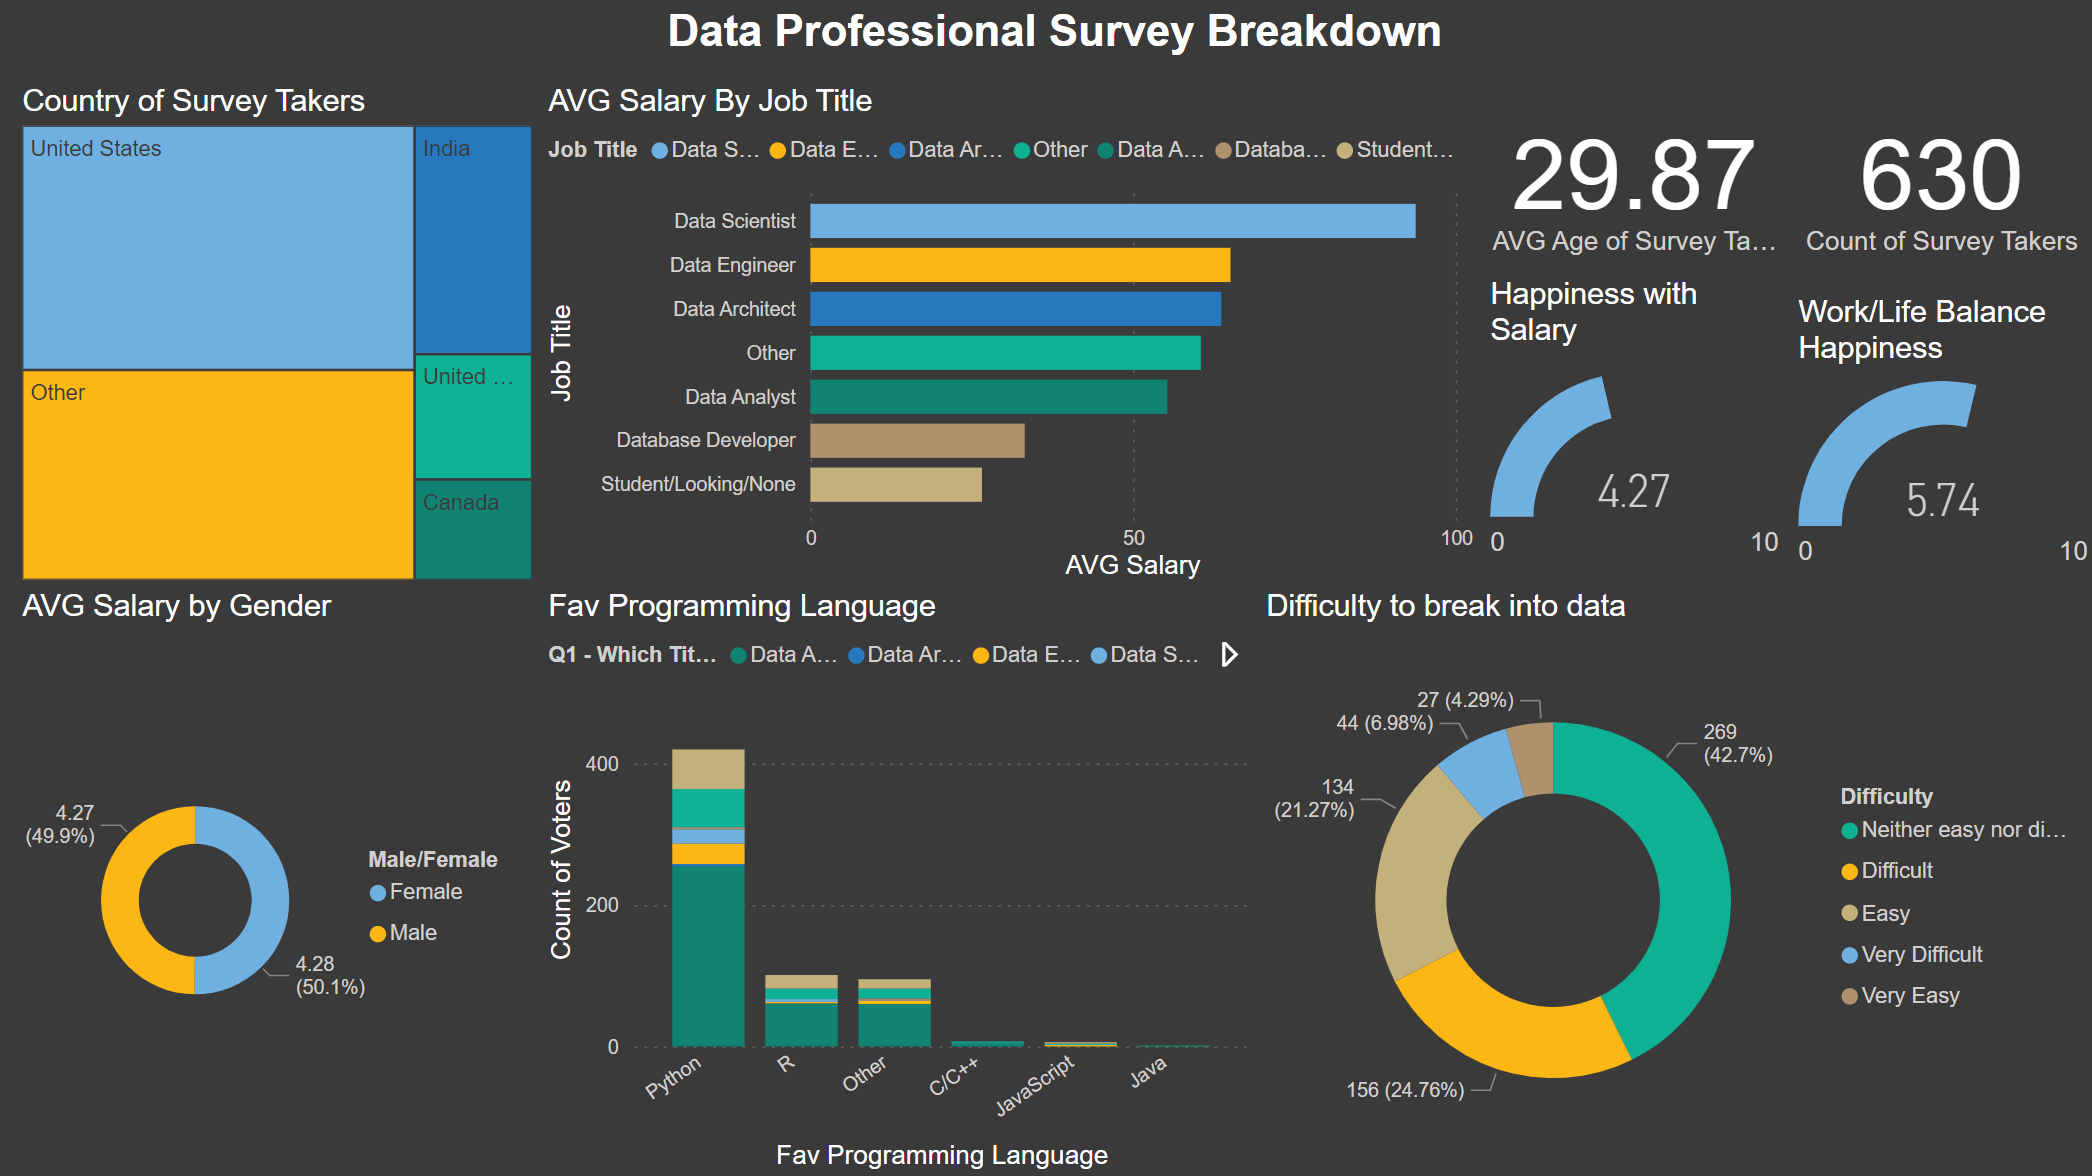

What the dashboard file says about the page in this screenshot:
{"tool":"powerbi","page":{"name":"Page 1","canvas":[1280,720],"ordinal":0},"visuals":[{"type":"textbox","box":[9.7,0,1270.3,52.2],"z":0},{"type":"card","fields":{"Values":["Count(Data Professional Survey.Unique ID)"]},"box":[1092,52.2,188,117.1],"z":1},{"type":"card","fields":{"Values":["Avg(Data Professional Survey.Q10 - Current Age)"]},"box":[905.5,52.2,186.5,117.1],"z":2},{"type":"barChart","title":"AVG Salary By Job Title","fields":{"Category":["Data Professional Survey.Q1 - Which Title Best Fits your Current Role?.1"],"Y":["Avg(Data Professional Survey.AVG Salary)"],"Series":["Data Professional Survey.Q1 - Which Title Best Fits your Current Role?.1"]},"box":[330.9,51.9,574.8,308.2],"z":3},{"type":"columnChart","title":"Fav Programming Language","fields":{"Category":["Data Professional Survey.Q5 - Favorite Programming Language.1"],"Y":["CountNonNull(Data Professional Survey.Unique ID)"],"Series":["Data Professional Survey.Q1 - Which Title Best Fits your Current Role?.1"]},"box":[330.9,360.1,437.9,360.1],"z":4},{"type":"treemap","title":"Country of Survey Takers","fields":{"Group":["Data Professional Survey.Q11 - Which Country do you live in?.1"],"Values":["CountNonNull(Data Professional Survey.Q11 - Which Country do you live in?.1)"]},"box":[9.7,51.9,321.1,308.2],"z":5},{"type":"gauge","title":"Work/Life Balance Happiness ","fields":{"Y":["Avg(Data Professional Survey.Q6 - How Happy are you in your Current Position with the following? (Work/Life Balance))"],"MaxValue":["Max(Data Professional Survey.Q6 - How Happy are you in your Current Position with the following? (Work/Life Balance))"],"MinValue":["Min(Data Professional Survey.Q6 - How Happy are you in your Current Position with the following? (Work/Life Balance))1"]},"box":[1093.2,180.4,186.8,179.7],"z":6},{"type":"gauge","title":"Happiness with Salary","fields":{"Y":["Avg(Data Professional Survey.Q6 - How Happy are you in your Current Position with the following? (Salary))"],"MinValue":["Min(Data Professional Survey.Q6 - How Happy are you in your Current Position with the following? (Salary))1"],"MaxValue":["Max(Data Professional Survey.Q6 - How Happy are you in your Current Position with the following? (Salary))2"]},"box":[905.7,169.3,186.2,190.7],"z":7},{"type":"donutChart","title":"AVG Salary by Gender","fields":{"Category":["Data Professional Survey.Q9 - Male/Female?"],"Y":["Avg(Data Professional Survey.Q6 - How Happy are you in your Current Position with the following? (Salary))"]},"box":[9.7,360.1,321.1,360.1],"z":8},{"type":"donutChart","title":"Difficulty to break into data","fields":{"Category":["Data Professional Survey.Q7 - How difficult was it for you to break into Data?"],"Y":["CountNonNull(Data Professional Survey.Q7 - How difficult was it for you to break into Data?)"]},"box":[768.8,360.1,511.2,360.1],"z":9}]}

Visuals, with their boxes in screenshot pixels (x1, y1, x2, y2), scaled from the page's 1280x720 canvas onto the 2092x1176 screenshot:
textbox: [left=16, top=0, right=2091, bottom=85]
card - Count(Data Professional Survey.Unique ID): [left=1785, top=85, right=2091, bottom=277]
card - Avg(Data Professional Survey.Q10 - Current Age): [left=1480, top=85, right=1785, bottom=277]
"AVG Salary By Job Title" barChart: [left=541, top=85, right=1480, bottom=588]
"Fav Programming Language" columnChart: [left=541, top=588, right=1257, bottom=1175]
"Country of Survey Takers" treemap: [left=16, top=85, right=541, bottom=588]
"Work/Life Balance Happiness " gauge: [left=1787, top=295, right=2091, bottom=588]
"Happiness with Salary" gauge: [left=1480, top=277, right=1785, bottom=588]
"AVG Salary by Gender" donutChart: [left=16, top=588, right=541, bottom=1175]
"Difficulty to break into data" donutChart: [left=1257, top=588, right=2091, bottom=1175]
